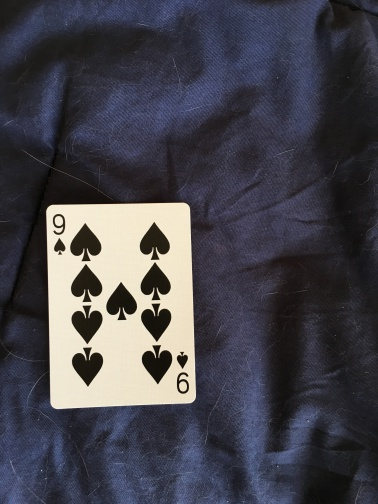nine: (45, 203, 197, 408)
